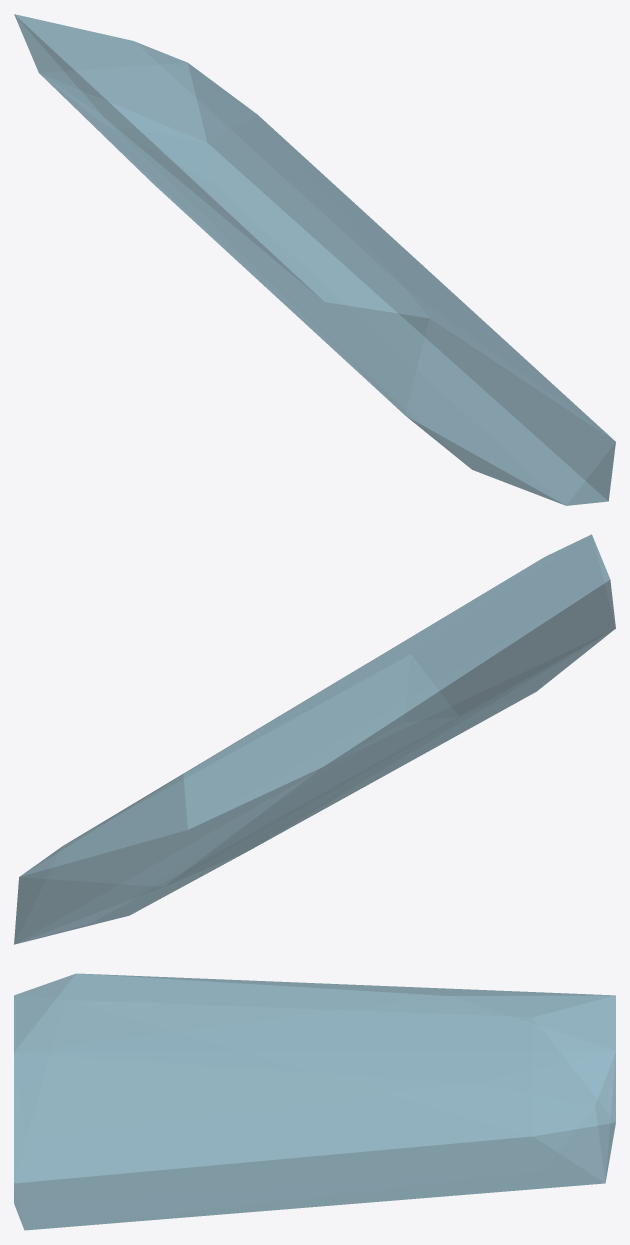
3 renders of one model, top to bottom at view 1: azimuth 30°, elevation 25°; view 2: azimuth 150°, elevation 25°; view 3: azimuth 270°, elevation 25°, orthographic. The views are drawn at different scales.
Parts seen in each view (by area): view 1: Shape_IndexedFaceSet.052_Shape_IndexedFaceSet.2017; view 2: Shape_IndexedFaceSet.052_Shape_IndexedFaceSet.2017; view 3: Shape_IndexedFaceSet.052_Shape_IndexedFaceSet.2017.
Part boxes in pixels (x1=…): Shape_IndexedFaceSet.052_Shape_IndexedFaceSet.2017: x1=14, y1=14, x2=615, y2=505; Shape_IndexedFaceSet.052_Shape_IndexedFaceSet.2017: x1=14, y1=534, x2=615, y2=944; Shape_IndexedFaceSet.052_Shape_IndexedFaceSet.2017: x1=14, y1=973, x2=615, y2=1230.
Bounding box in the file's own units: 0.1064 × 0.0957 × 0.3085.
